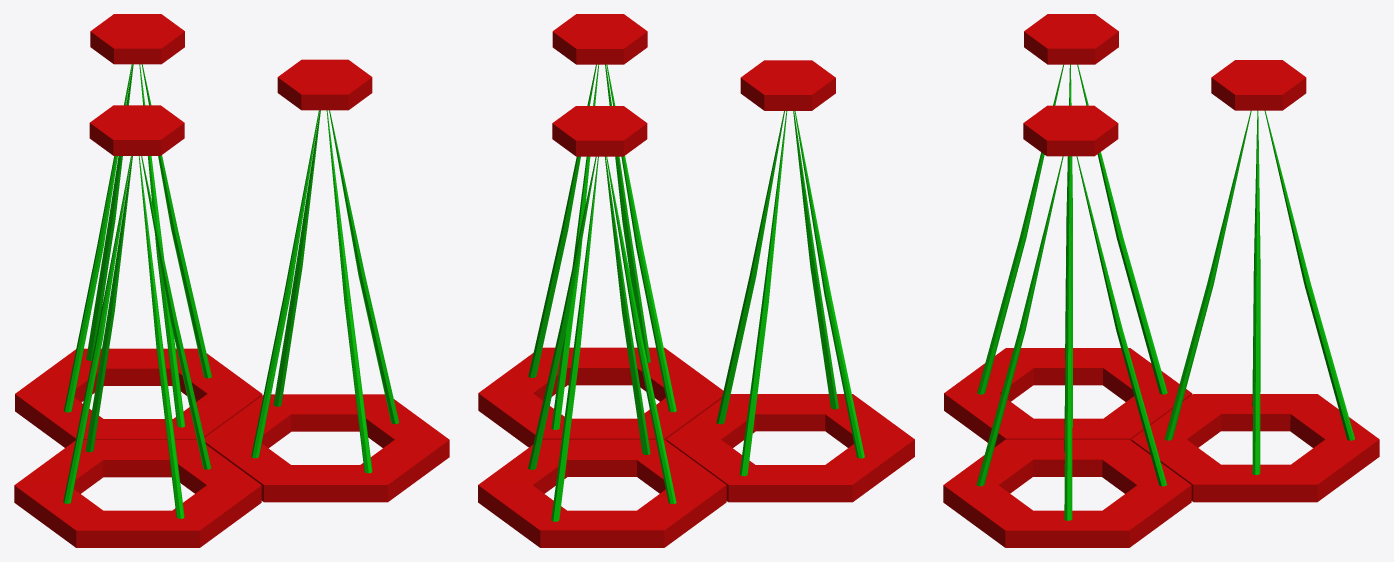
Rendered from HangingFuturelamp3.fbx.
The picture shows the model from 3 angles, left to right: view 1: azimuth 30°, elevation 25°; view 2: azimuth 150°, elevation 25°; view 3: azimuth 270°, elevation 25°; orthographic projection.
Parts seen in each view (by area): view 1: Cylinder.003; view 2: Cylinder.003; view 3: Cylinder.003.
Part boxes in pixels (box(x1,y1,x2,y2)): Cylinder.003: box(14, 14, 449, 547); Cylinder.003: box(478, 14, 914, 547); Cylinder.003: box(943, 14, 1379, 547).
Size of the model in its own units: 165 by 166 by 160.
